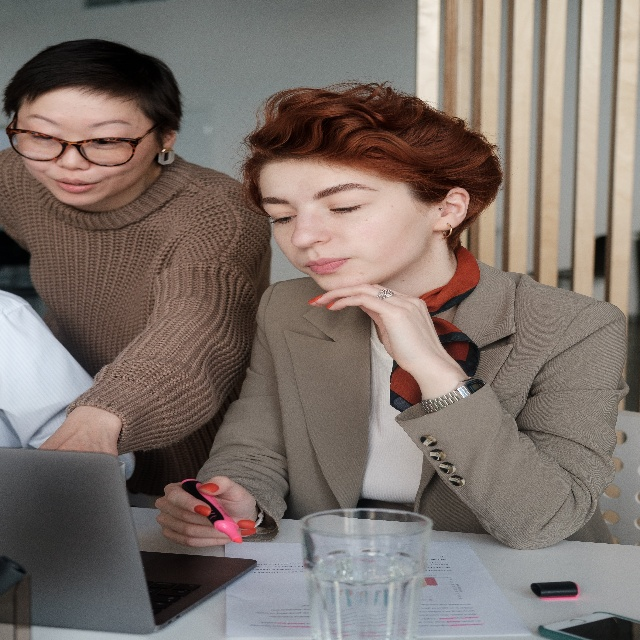Gafas: (5, 112, 163, 168)
Sin_guantes: (307, 281, 442, 382), (154, 474, 260, 552), (36, 396, 122, 459)
